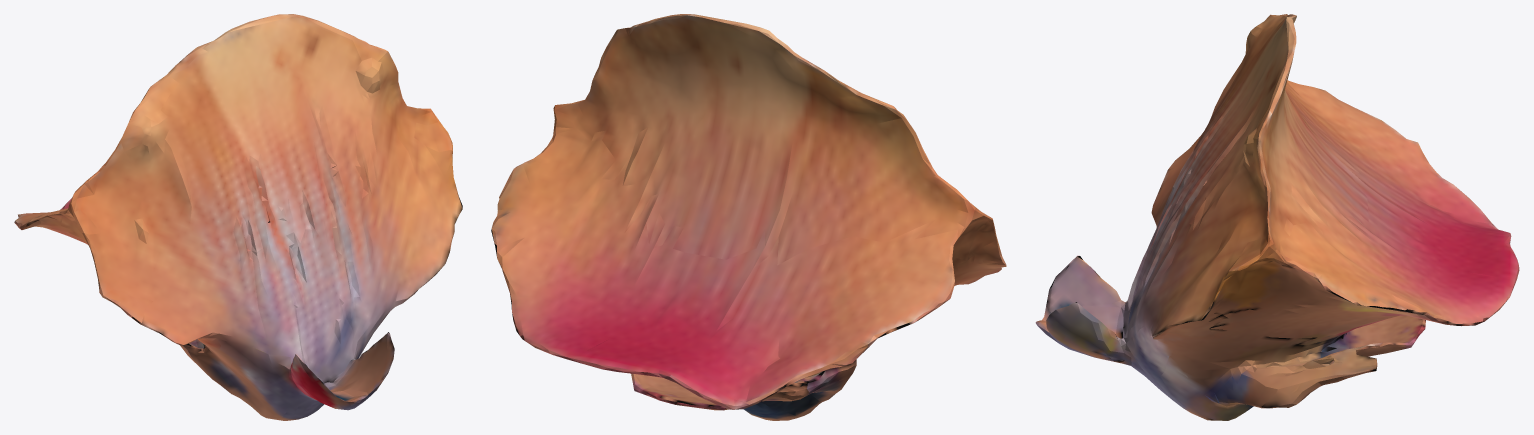
File: Plant1.glb
The picture shows the model from 3 angles, left to right: view 1: azimuth 30°, elevation 25°; view 2: azimuth 150°, elevation 25°; view 3: azimuth 270°, elevation 25°; orthographic projection. The views are drawn at different scales.
Parts seen in each view (by area): view 1: model.015_LOD0; view 2: model.015_LOD0; view 3: model.015_LOD0.
Boxes of the visible parts, x1=… form: model.015_LOD0: x1=14, y1=14, x2=462, y2=420; model.015_LOD0: x1=491, y1=14, x2=1006, y2=420; model.015_LOD0: x1=1035, y1=14, x2=1519, y2=420.
Size of what is drawn, in the model's own units: 0.4918 by 0.4421 by 0.5055.
1 material, 1 textured.
